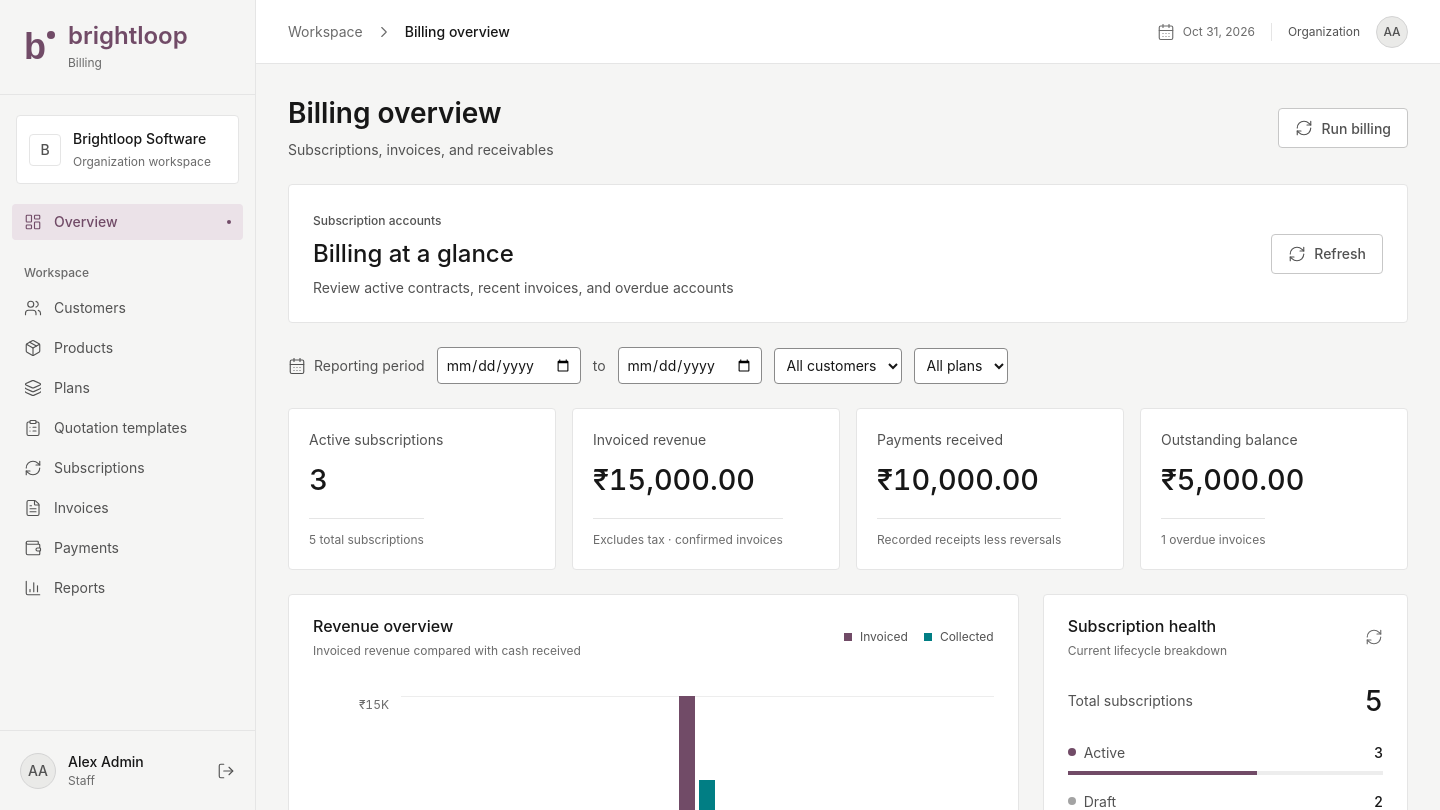
Scenario: workspace permissions and real mutations › hides admin-only creation for staff while allowing operational work
What coordinates should you click on to do the following:
click the button "Products"
I would click on:
 (128, 348)
Its box is [12,330,243,366].
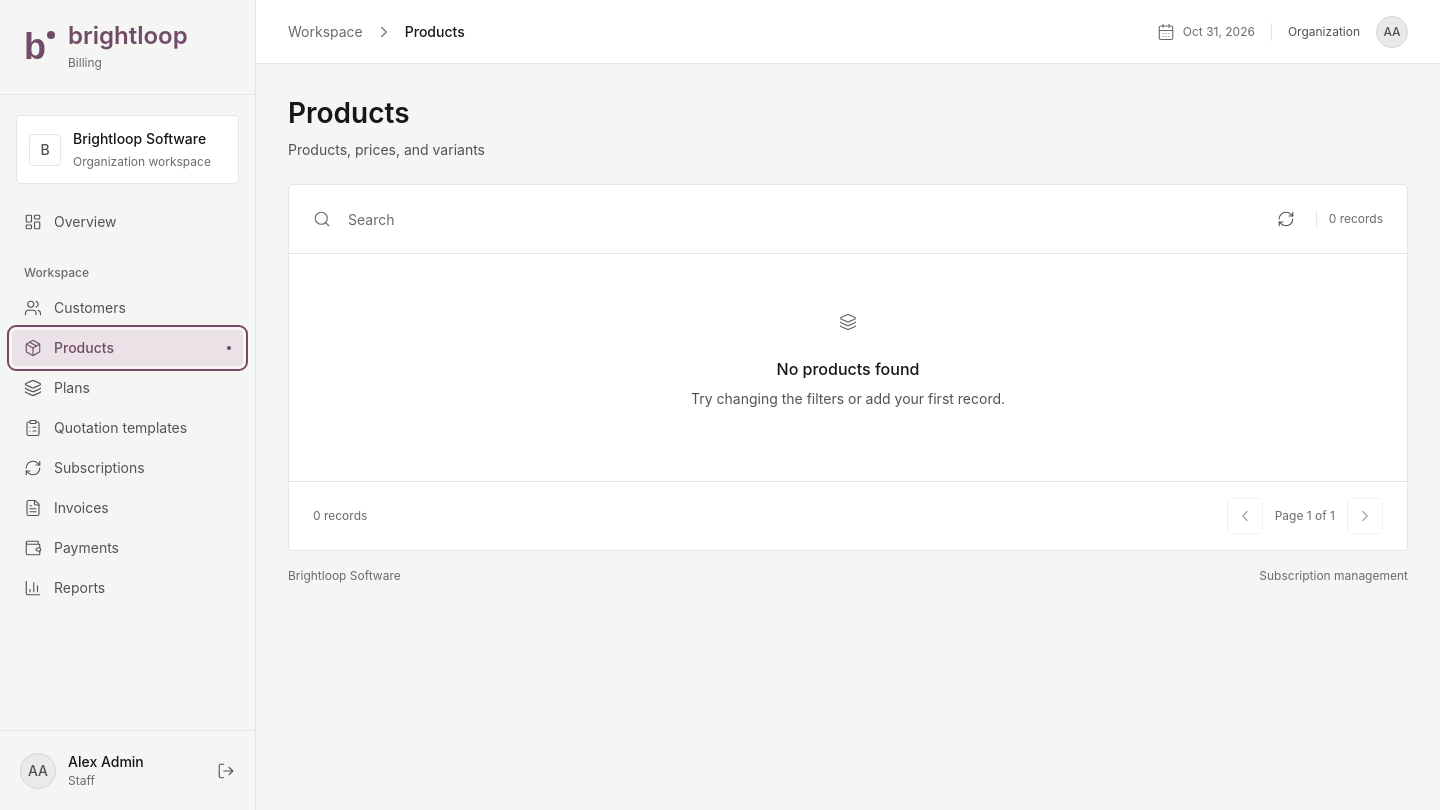
What coordinates should you click on to do the following:
click the button "Customers"
I would click on:
 (128, 308)
Its box is [12,290,243,326].
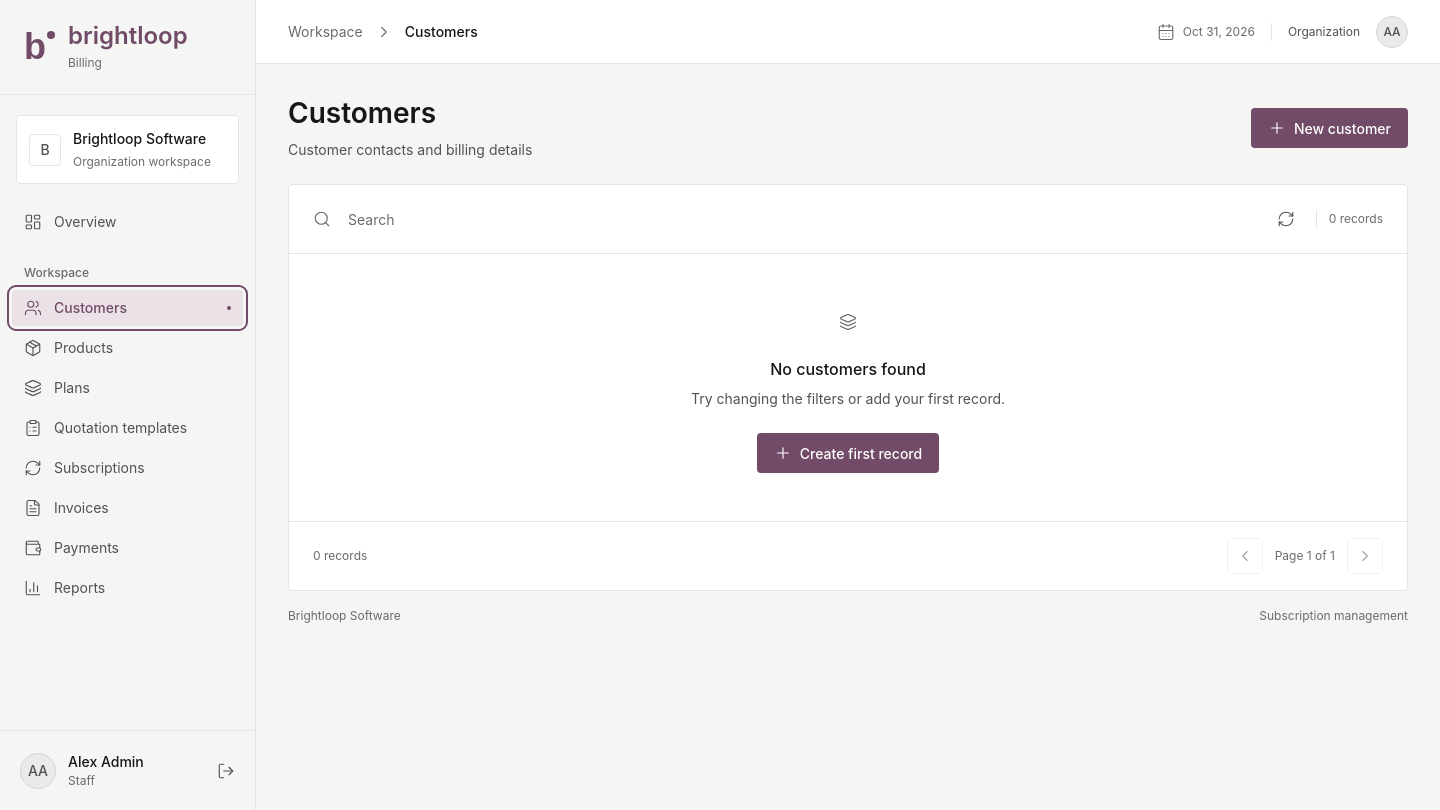
Check: the button "New customer" is shown, box [1251,108,1408,148]
